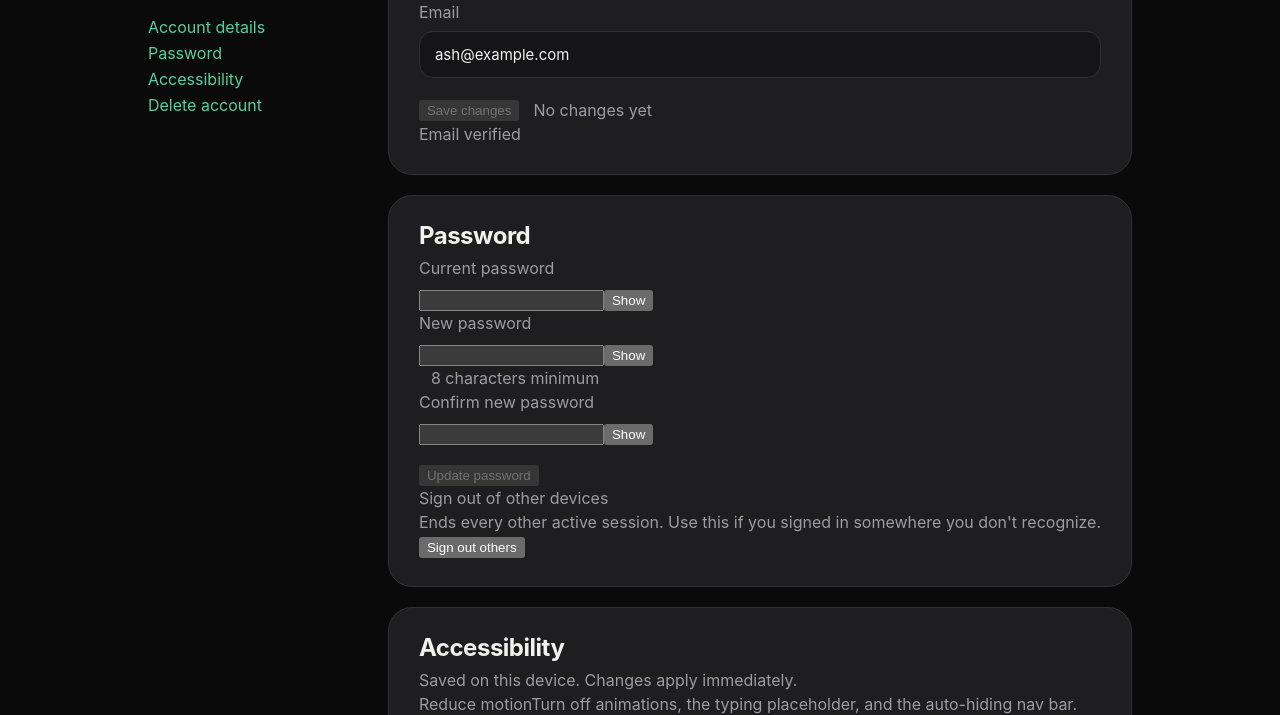
Test case: Profile › renders the change-password form with a live strength meter for a password account
(page scrolled)
Expected: the password field labelled "Current password" is shown, [419,290,604,311]
Expected: the password field labelled "Confirm new password" is shown, [419,424,604,445]
In the password field labelled "New password": (511, 356) [419,345,604,366], type "abc"
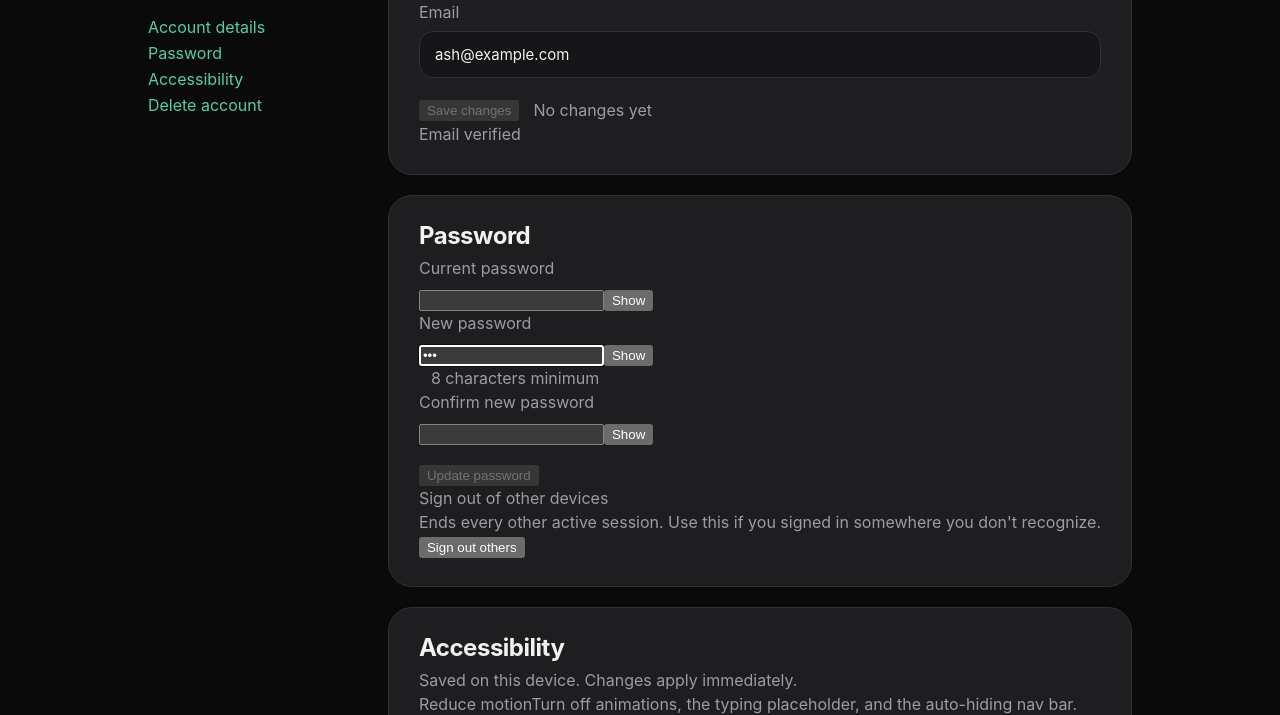
Expected: the text "8 characters minimum" is shown, [431,366,599,390]
In the password field labelled "New password": (511, 356) [419,345,604,366], type "abcdefgh"
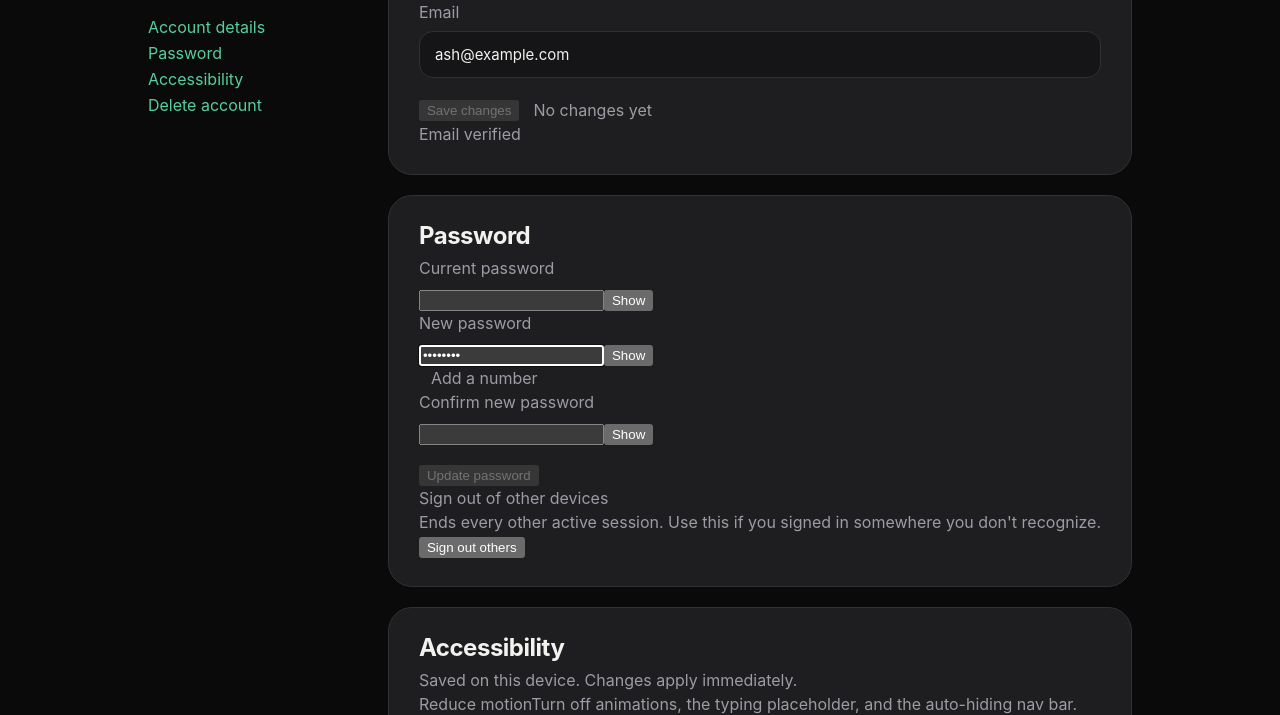
Now the text "Add a number" is shown, box [431,366,538,390]
In the password field labelled "New password": (511, 356) [419,345,604,366], type "password1"
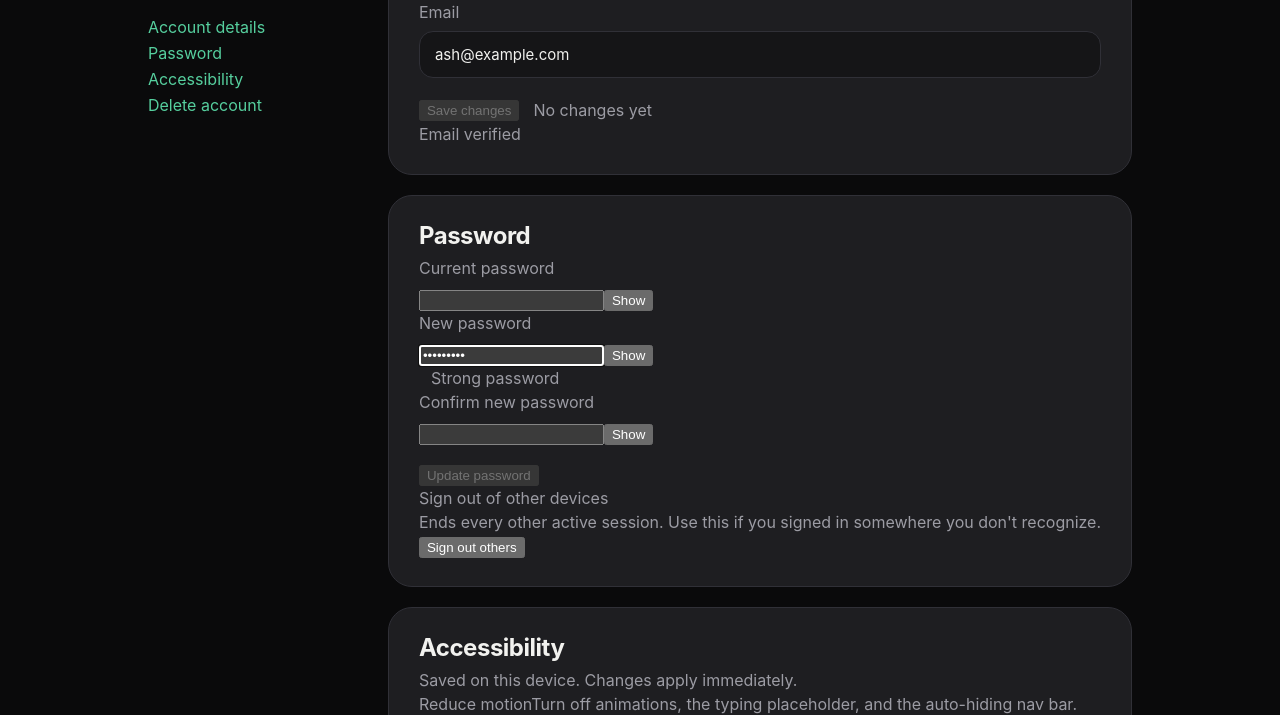
Now the text "Strong password" is shown, box [431,366,559,390]
